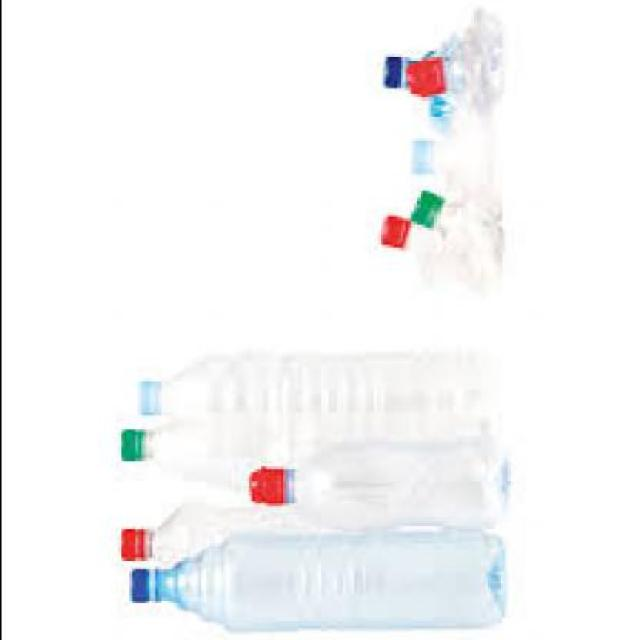PLASTIC: (128, 534, 501, 638), (133, 362, 484, 432), (248, 443, 509, 529), (116, 422, 458, 486), (116, 503, 307, 569), (404, 12, 501, 116), (412, 193, 498, 279), (378, 46, 458, 132), (378, 216, 469, 284), (402, 128, 500, 190), (404, 54, 444, 103), (245, 469, 288, 509), (114, 427, 141, 467), (407, 196, 438, 230), (404, 139, 434, 173), (376, 219, 404, 253), (117, 531, 145, 564), (378, 57, 402, 94), (132, 382, 156, 418), (128, 572, 148, 606)
